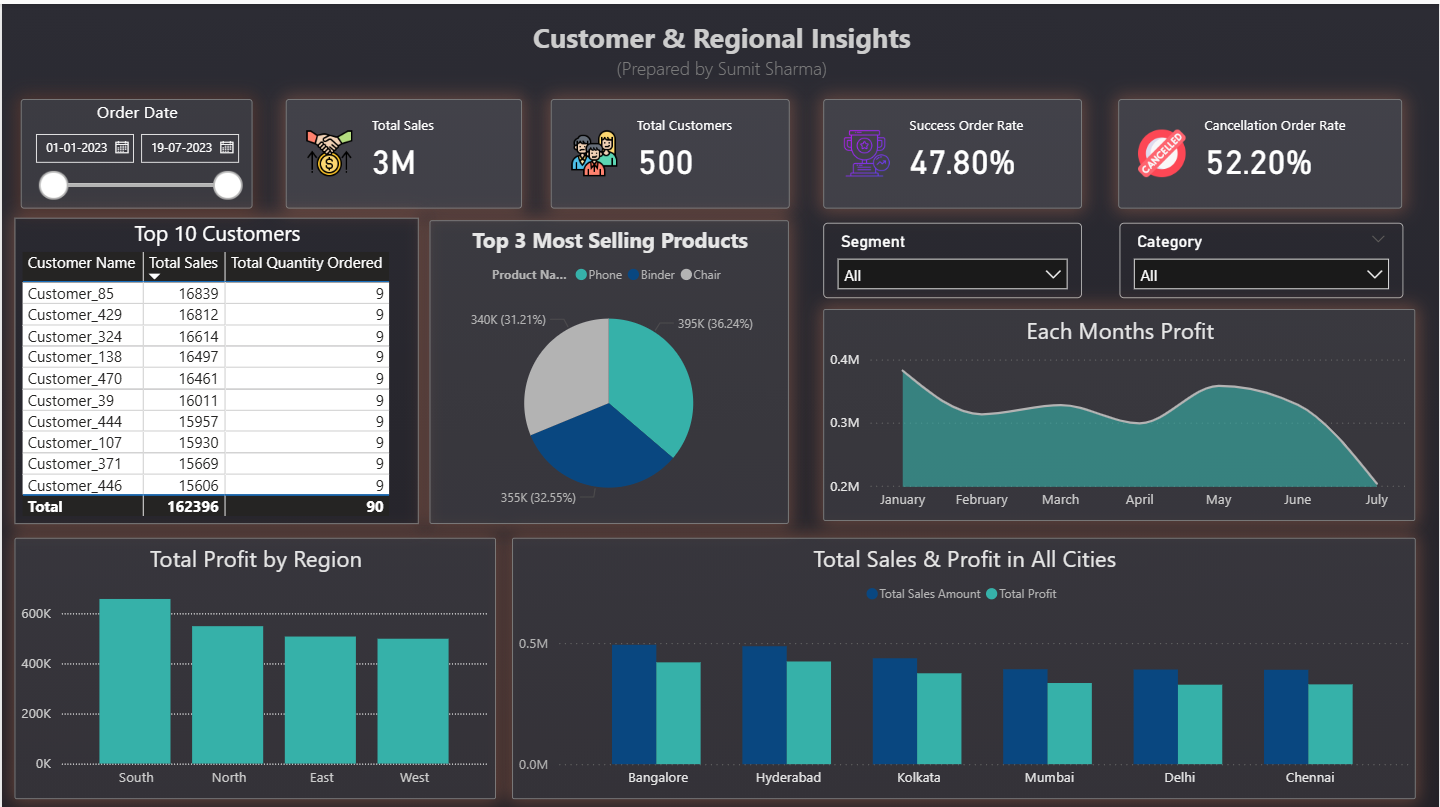

The dashboard page shown, as its layout file describes it:
{"tool":"powerbi","page":{"name":"Page 2","canvas":[1280,720],"ordinal":1},"visuals":[{"type":"textbox","box":[398.8,8.8,485,68.8],"z":0},{"type":"slicer","title":"Order Date","fields":{"Values":["Sheet1.Order Date"]},"box":[16.2,85,206.2,97.5],"z":1000},{"type":"cardVisual","fields":{"Data":["Sum(Sheet1.Sales Amount)"]},"box":[243,84.9,218.6,97.7],"z":2000},{"type":"columnChart","fields":{"Category":["Sheet1.Region"],"Y":["Sum(Sheet1.Profit)"]},"box":[11.2,475.5,428.8,232.5],"z":3000},{"type":"lineClusteredColumnComboChart","title":"Total Sales & Profit in All Cities","fields":{"Category":["Sheet1.City"],"Y":["Sum(Sheet1.Sales Amount)","Sum(Sheet1.Profit)"]},"box":[453.8,475.5,805,232.5],"z":4000},{"type":"tableEx","title":"Top 10 Customers","fields":{"Values":["Sheet1.Customer Name","Sum(Sheet1.Sales Amount)","Sum(Sheet1.Quantity)"]},"box":[11.6,195.3,359.3,267.4],"z":5000},{"type":"slicer","title":"Category","fields":{"Values":["Sheet1.Category"]},"box":[994.2,195.3,264,67.4],"z":6000},{"type":"cardVisual","fields":{"Data":["Count(Sheet1.Customer ID)"]},"box":[477.9,84.9,233.7,97.7],"z":7000},{"type":"cardVisual","fields":{"Data":["Sheet1.Success Order Rate"]},"box":[731.4,84.9,240.7,97.7],"z":8000},{"type":"cardVisual","fields":{"Data":["Sheet1.Cancellation Order Rate"]},"box":[994.2,84.9,264,97.7],"z":9000},{"type":"slicer","title":"Category","fields":{"Values":["Sheet1.Segment"]},"box":[731.4,195.3,240.7,67.4],"z":10000},{"type":"pieChart","title":"Top 3 Most Selling Products","fields":{"Category":["Sheet1.Product Name"],"Y":["Sum(Sheet1.Sales Amount)"]},"box":[381.4,195.3,330.2,267.4],"z":11000},{"type":"lineChart","title":"Each Months Profit","fields":{"Y":["Sum(Sheet1.Profit)"],"Category":["Sheet1.Order Date.Variation.Date Hierarchy.Month"]},"box":[731.2,271.6,527.5,188.8],"z":12000},{"type":"actionButton","box":[18.9,23.4,40.1,33.4],"z":13000},{"type":"image","box":[407.8,0,61.5,61.5],"z":14000}]}

Visuals, with their boxes in screenshot pixels (x1, y1, x2, y2), scaled from the page's 1280x720 canvas onto the 1440x807 screenshot:
textbox: <region>449, 10, 994, 87</region>
"Order Date" slicer: <region>18, 95, 250, 205</region>
cardVisual - Sum(Sheet1.Sales Amount): <region>273, 95, 519, 205</region>
columnChart - Sheet1.Region x Sum(Sheet1.Profit): <region>13, 533, 495, 794</region>
"Total Sales & Profit in All Cities" lineClusteredColumnComboChart: <region>511, 533, 1416, 794</region>
"Top 10 Customers" tableEx: <region>13, 219, 417, 519</region>
"Category" slicer: <region>1118, 219, 1415, 294</region>
cardVisual - Count(Sheet1.Customer ID): <region>538, 95, 801, 205</region>
cardVisual - Sheet1.Success Order Rate: <region>823, 95, 1094, 205</region>
cardVisual - Sheet1.Cancellation Order Rate: <region>1118, 95, 1415, 205</region>
"Category" slicer: <region>823, 219, 1094, 294</region>
"Top 3 Most Selling Products" pieChart: <region>429, 219, 801, 519</region>
"Each Months Profit" lineChart: <region>823, 304, 1416, 516</region>
actionButton: <region>21, 26, 66, 64</region>
image: <region>459, 0, 528, 69</region>
